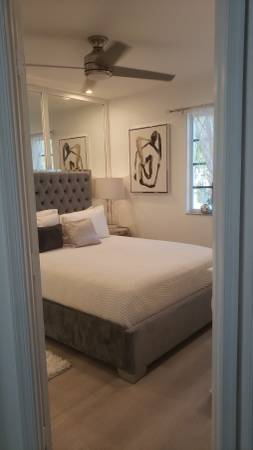bed: (38, 229, 215, 381)
frame: (128, 122, 170, 193)
lamp: (94, 176, 128, 225)
